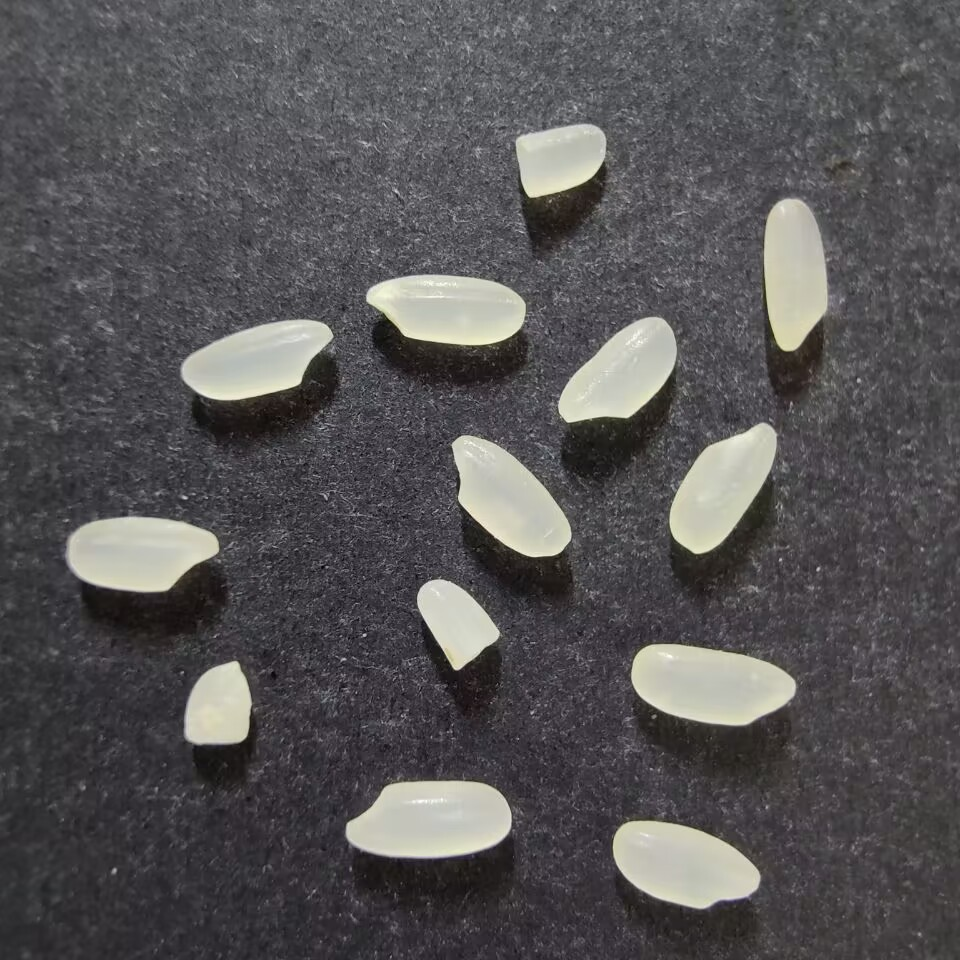broken: (416, 577, 499, 671), (514, 123, 607, 198), (182, 661, 251, 745)
rice: (450, 433, 572, 558), (668, 421, 777, 555), (630, 643, 796, 726), (612, 819, 761, 910), (344, 779, 512, 859), (556, 315, 677, 423), (180, 318, 334, 401), (67, 516, 220, 593), (365, 273, 526, 345), (762, 197, 828, 352)
